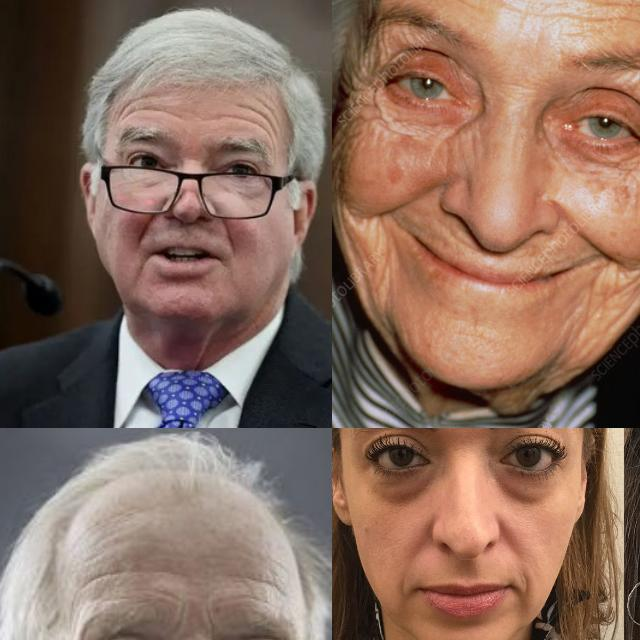crows_feet: (344, 62, 376, 114)
forehead: (230, 569, 292, 599), (596, 0, 640, 40), (494, 0, 574, 19), (76, 564, 132, 590), (244, 100, 276, 136), (147, 99, 179, 123), (115, 96, 141, 122), (213, 106, 239, 128)
frown_line: (170, 595, 190, 627), (198, 601, 218, 633)
gummy_smile: (562, 203, 610, 250), (219, 220, 243, 258), (408, 530, 432, 560), (498, 520, 520, 550), (135, 210, 155, 242)
masseter: (333, 201, 372, 271), (608, 268, 640, 316)
sad_smile: (517, 576, 533, 596), (396, 578, 409, 598)
smoker_lines: (385, 171, 443, 219)
